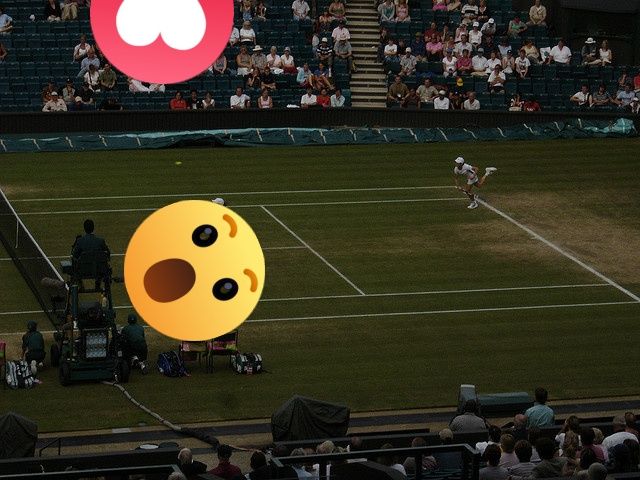love: (90, 0, 234, 84)
wow: (124, 200, 265, 341)
